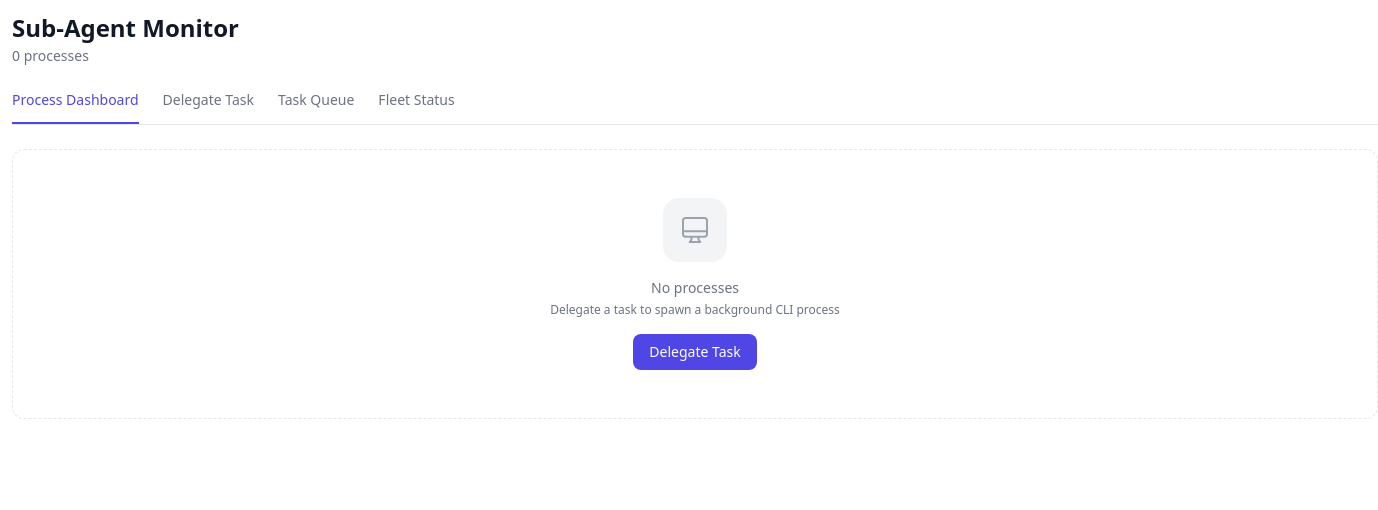
Test: SubAgents › shows not installed message on Task Queue tab when queue not installed
Step 1. Click the button "Task Queue" → (316, 107), box [278,90,354,124]
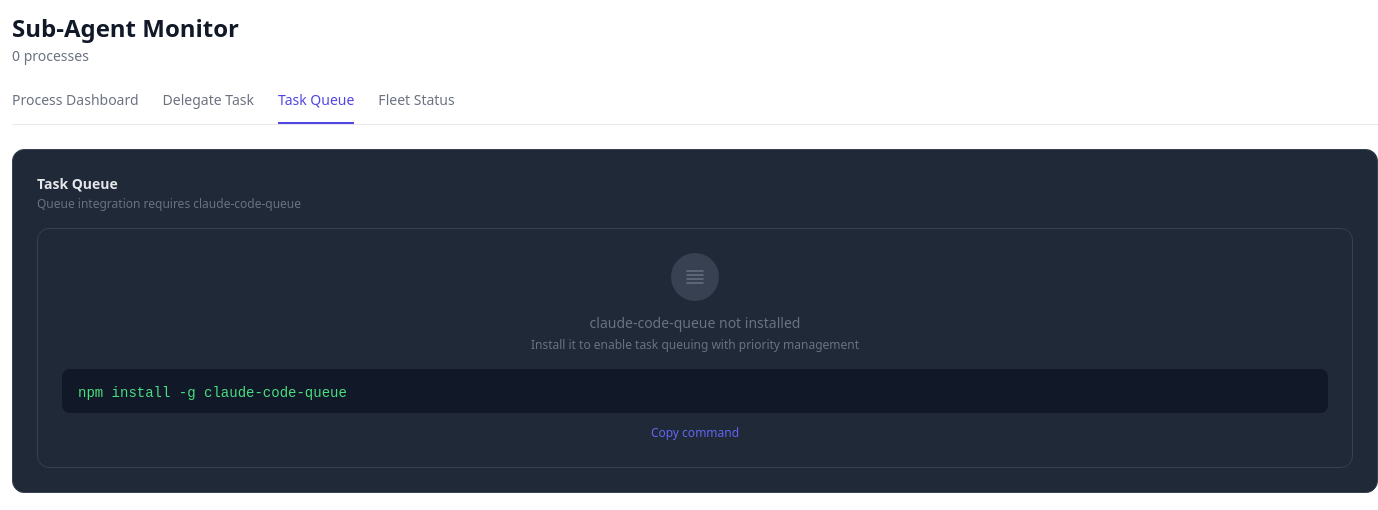
Expected: the heading "claude-code-queue not installed" is shown, [590,313,800,332]
